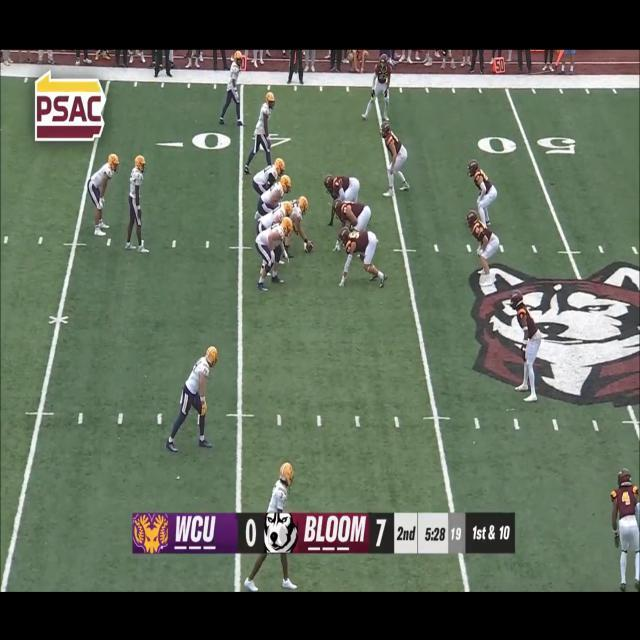football: (303, 240, 317, 254)
